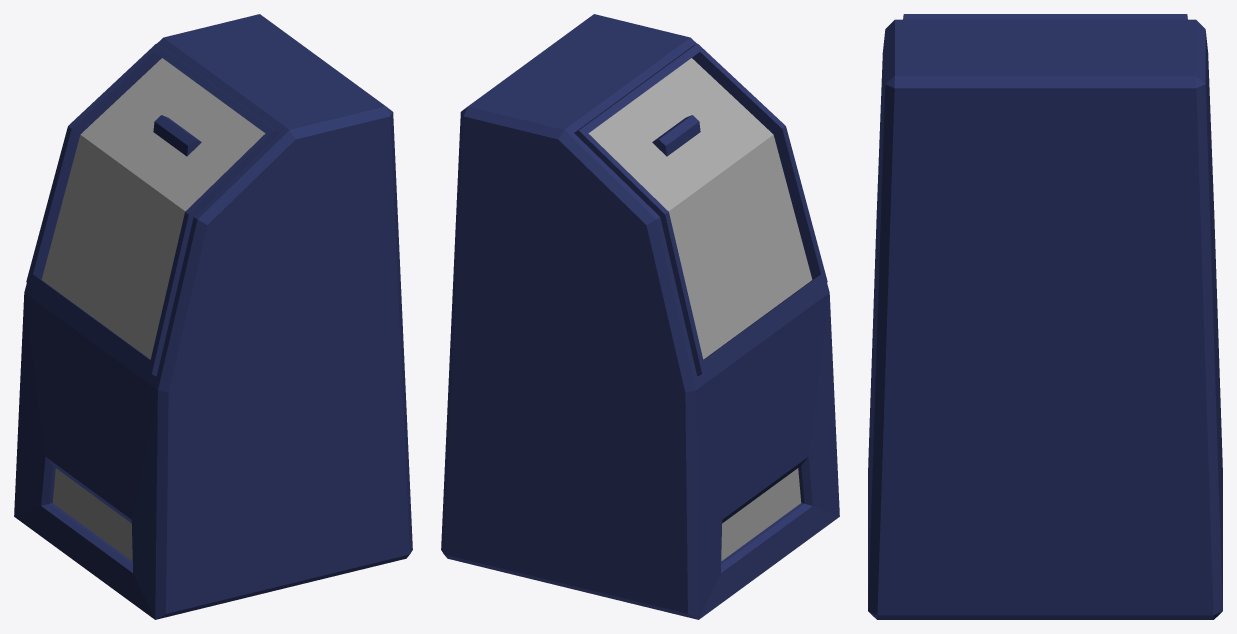
Rendered from bin01.fbx.
The picture shows the model from 3 angles, left to right: view 1: azimuth 30°, elevation 25°; view 2: azimuth 150°, elevation 25°; view 3: azimuth 270°, elevation 25°; orthographic projection. The views are drawn at different scales.
Parts seen in each view (by area): view 1: public_bin; view 2: public_bin; view 3: public_bin.
Boxes of the visible parts, bbox=[...] form: public_bin: bbox=[14, 14, 412, 619]; public_bin: bbox=[441, 14, 839, 619]; public_bin: bbox=[868, 14, 1222, 619].
Size of the model in its own units: 19.18 by 32 by 19.17.
